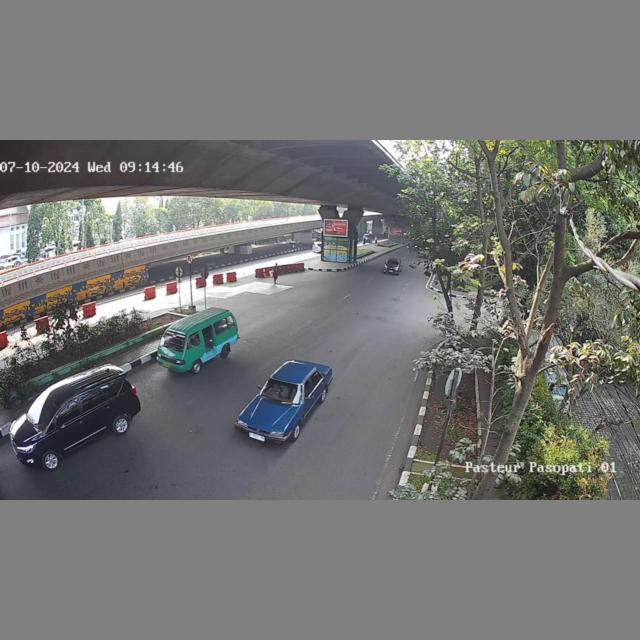windshield: (261, 378, 306, 404), (158, 329, 188, 351)
